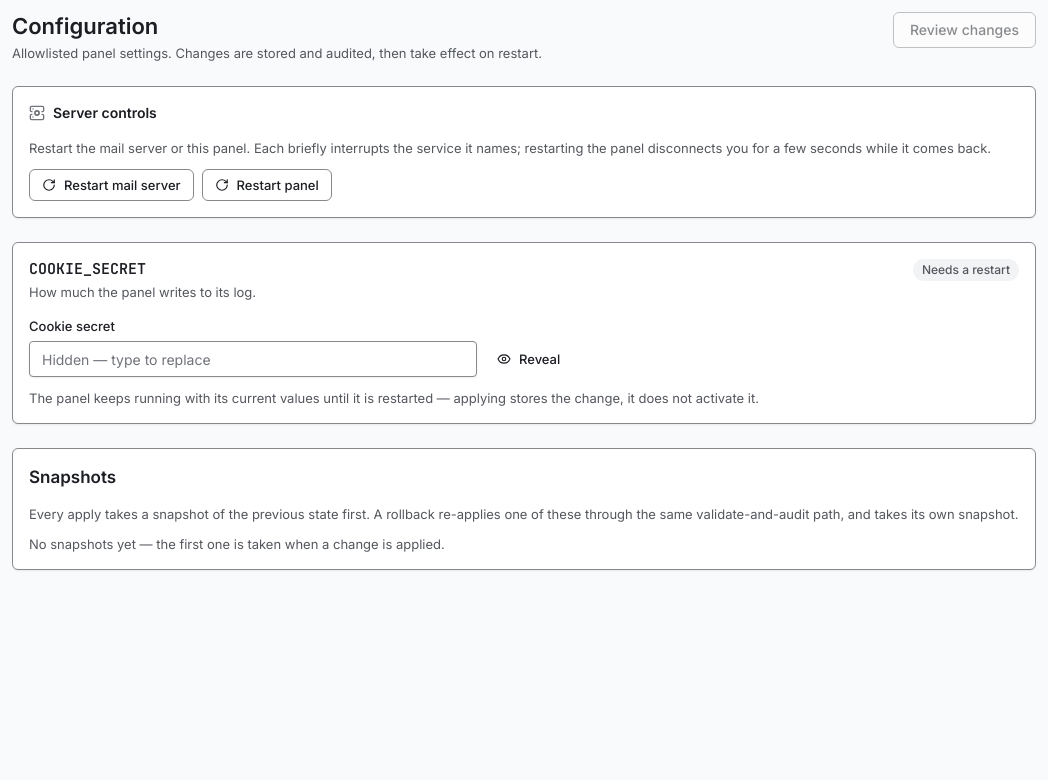
Test case: ConfigPage — secrets (SECURITY.md §7.6) › lets a secret be replaced without revealing the old value first
Type "new-secret" into the password field labelled "Cookie secret".
click(253, 359); type("new-secret")  # box [29,341,477,377]
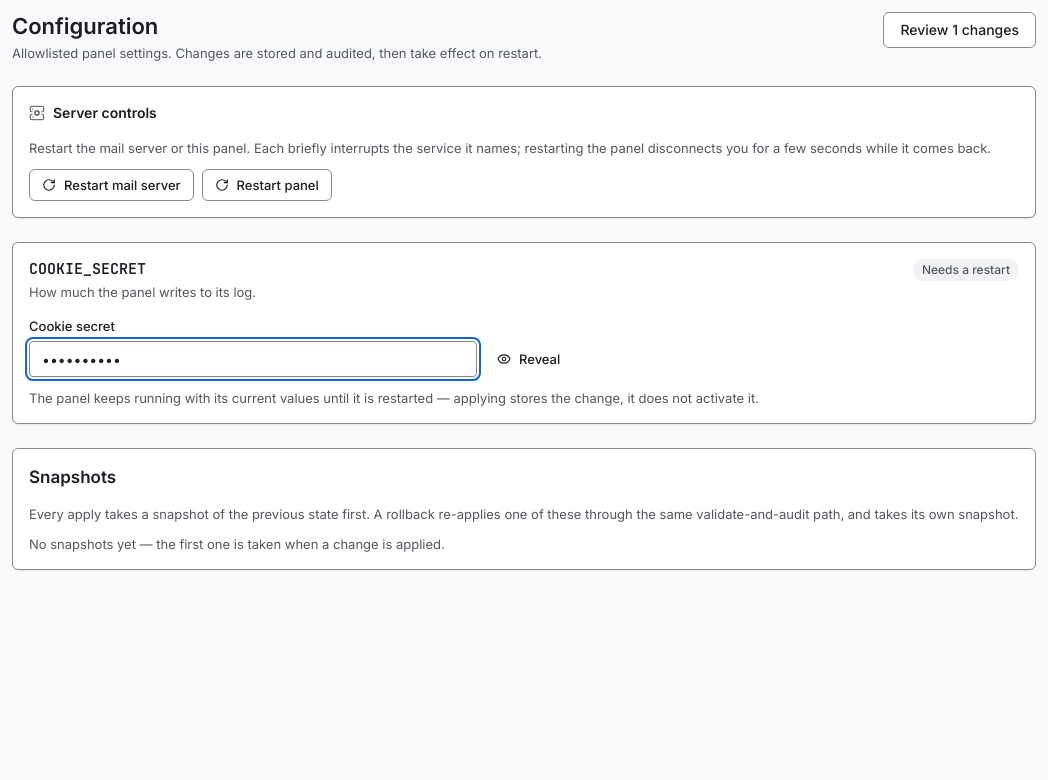
Expected: the button "Review 1 changes" is enabled, [883,12,1036,48]
